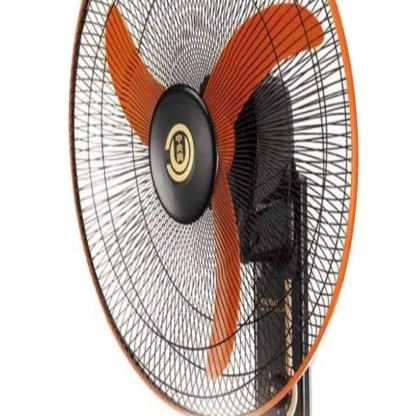fan: (68, 2, 364, 416)
